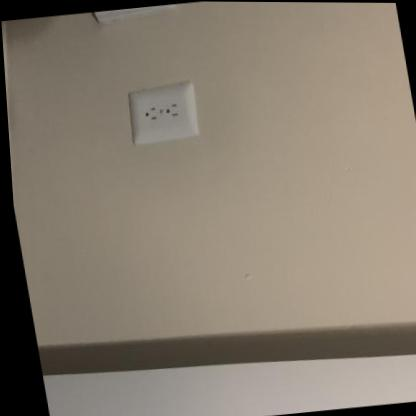OUTLET: (124, 83, 201, 143)
